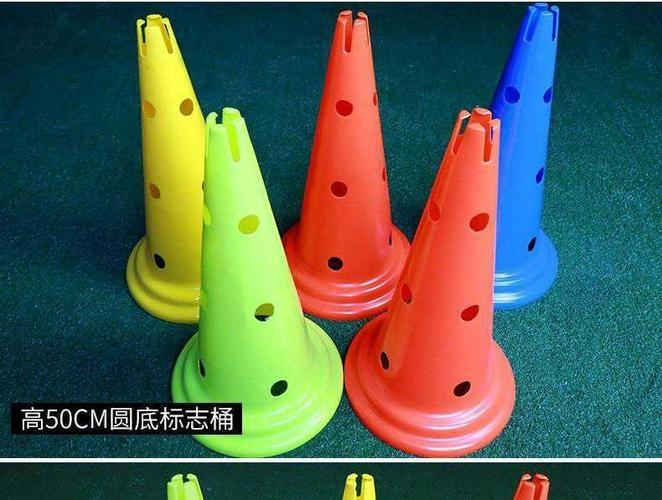cone_barrel: (184, 92, 338, 437), (361, 110, 515, 443), (288, 11, 412, 311), (122, 20, 206, 312), (486, 8, 561, 299)
